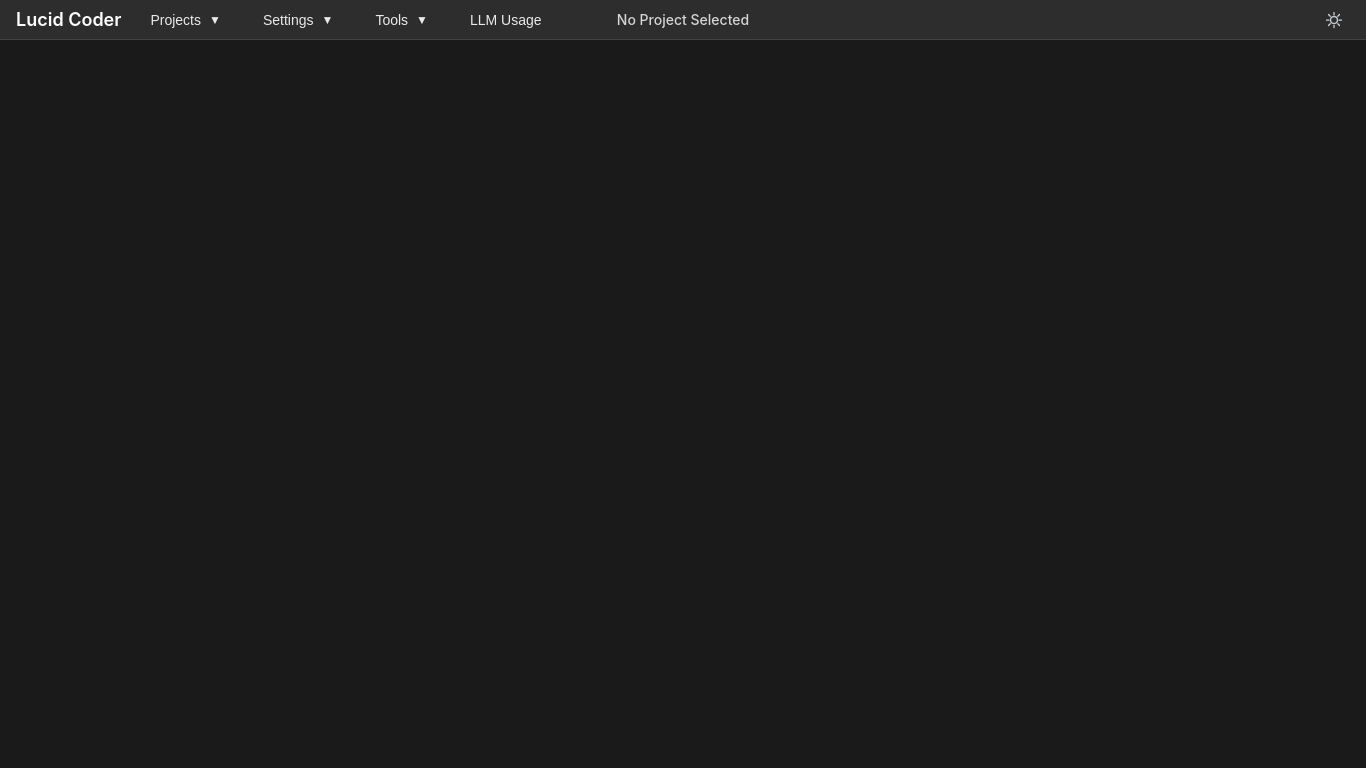
Test: Navigation Component › LLM configuration modal can be dismissed
The image size is (1366, 768).
Click the button "Settings ▼" at [298, 20], box [250,4,346,34]
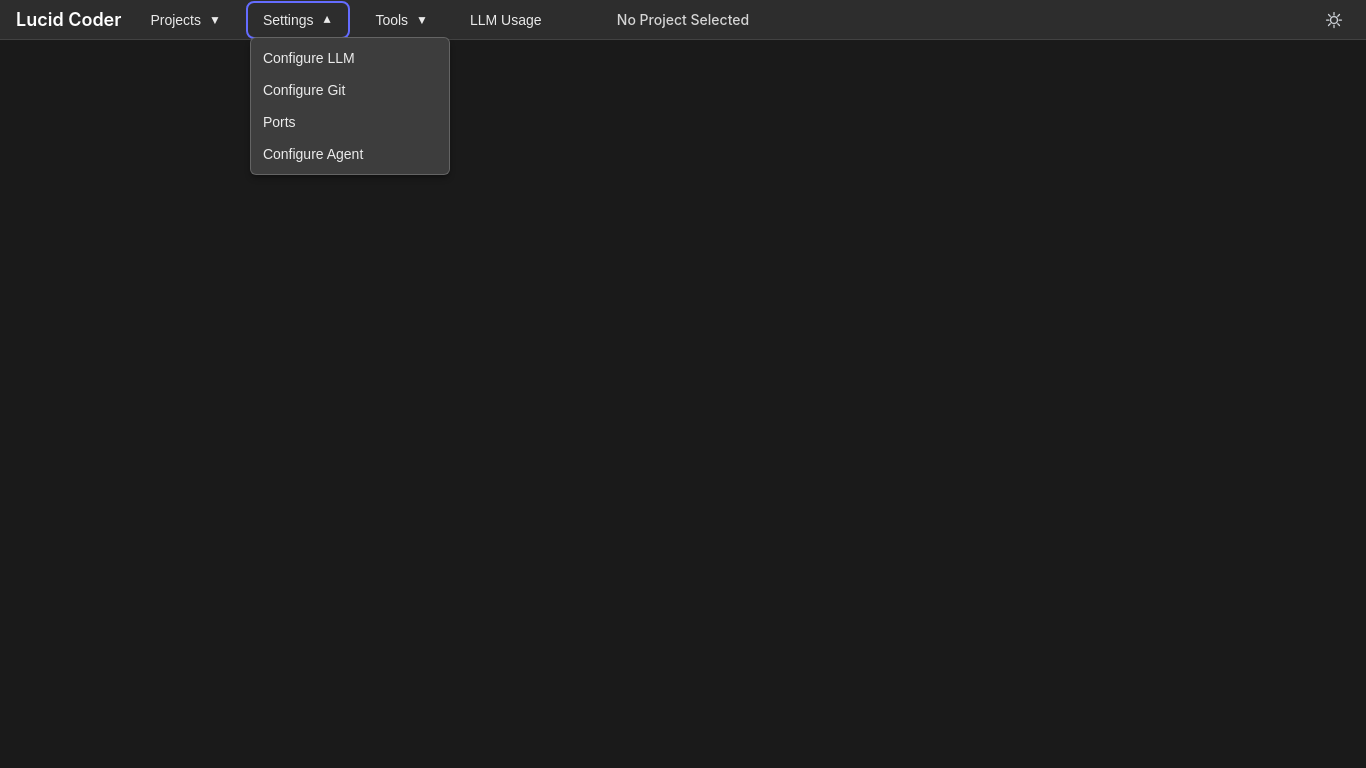
Click the button "Configure LLM" at [350, 58], box [251,42,449,74]
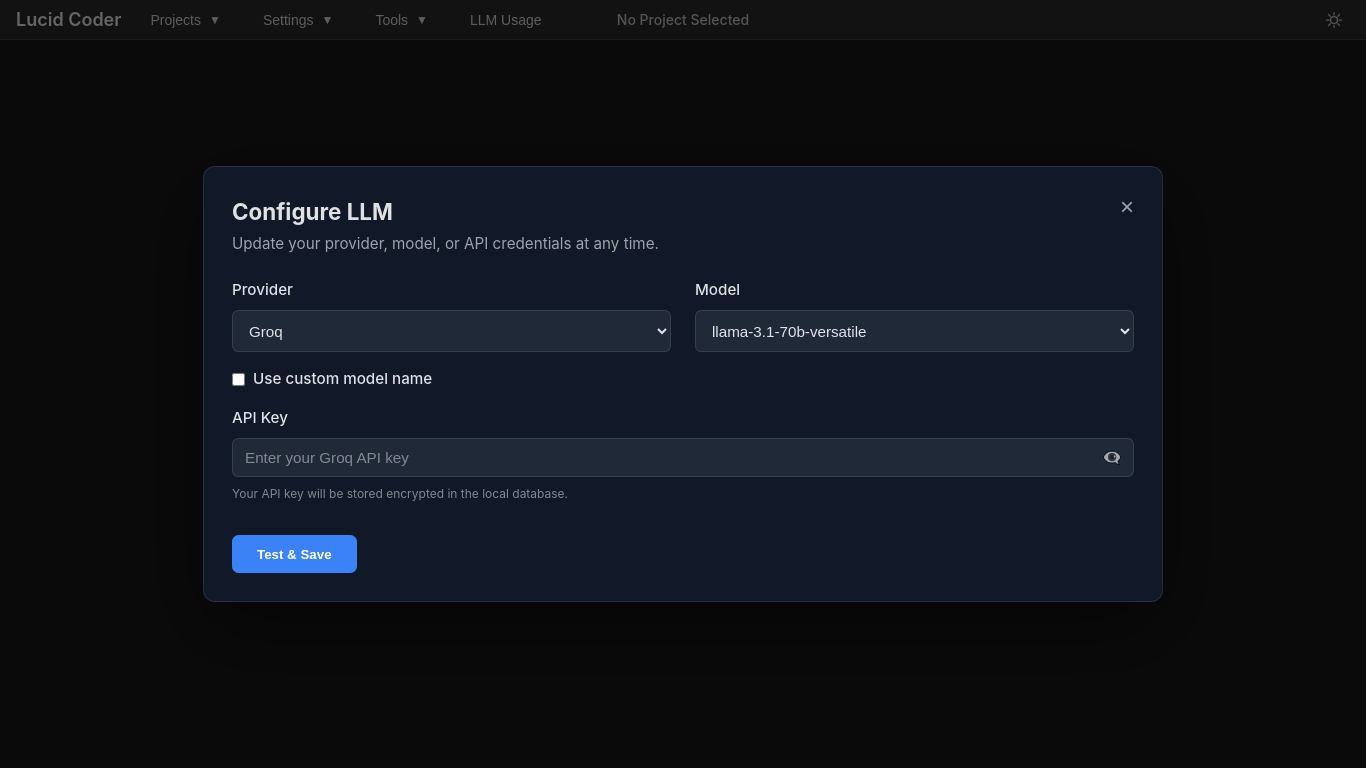
Now the dialog with test id "llm-config-modal" is shown
Click the button with test id "llm-config-close" at [1127, 207], box [1120,195,1134,219]
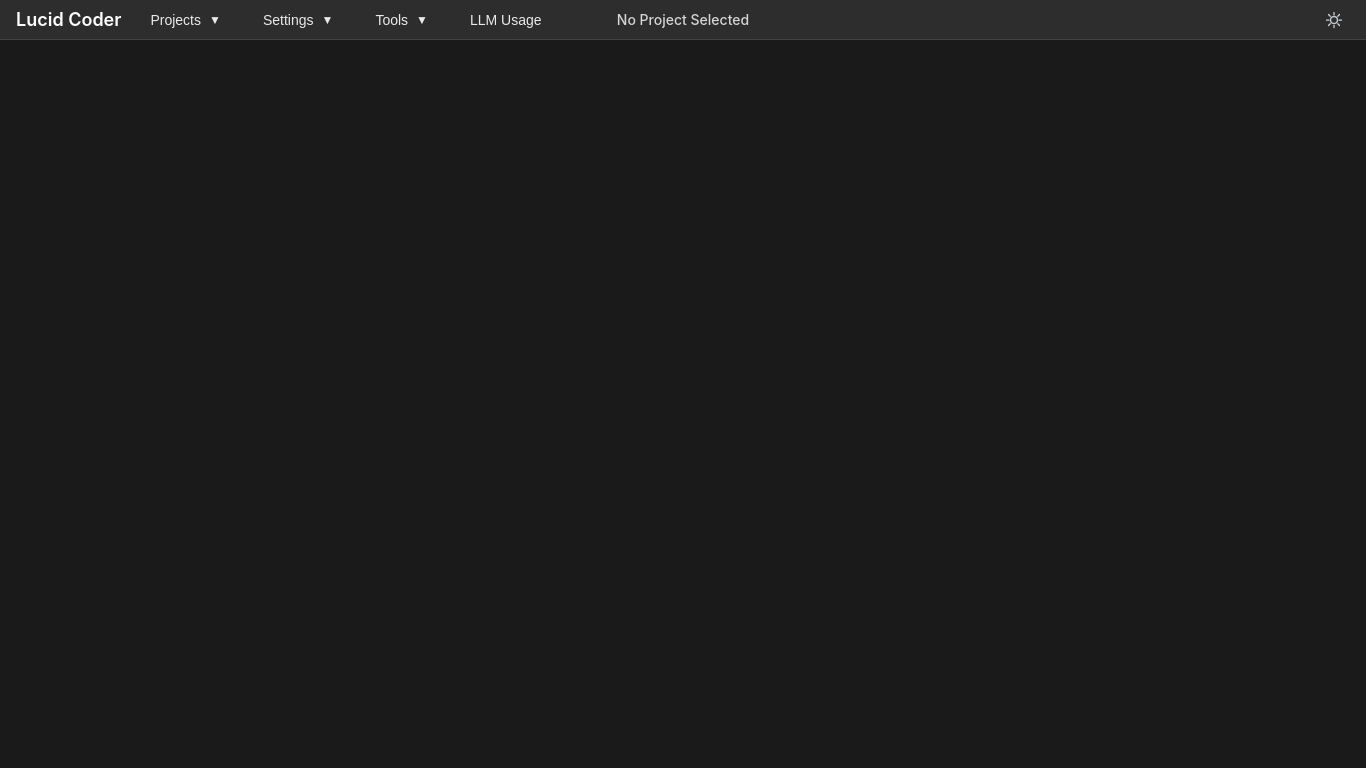
Now the dialog with test id "llm-config-modal" is gone
